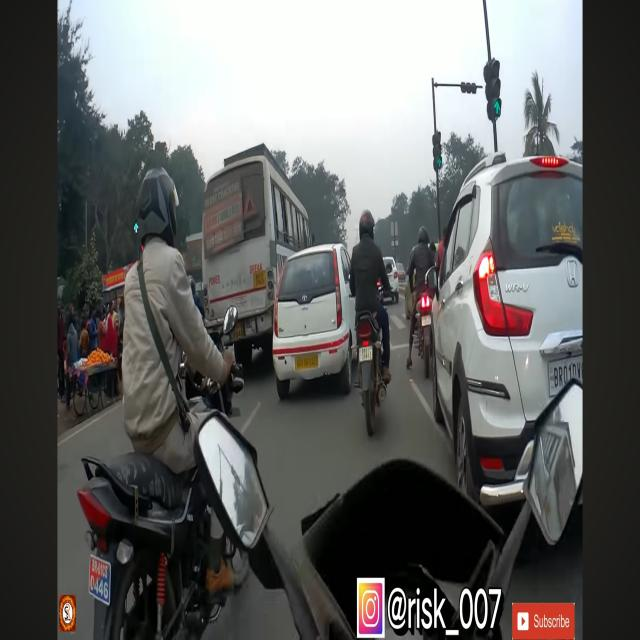Numberplate: (90, 550, 112, 602), (360, 342, 374, 363)
bike: (82, 323, 254, 626), (353, 197, 392, 427)
helmet: (138, 131, 195, 249), (358, 200, 376, 232)
